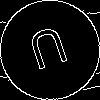U: (25, 25, 74, 80)
